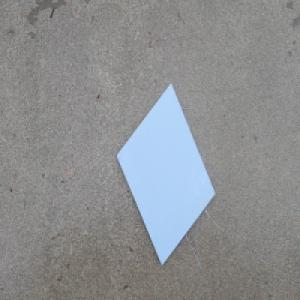PaintChip: (115, 81, 216, 269)
